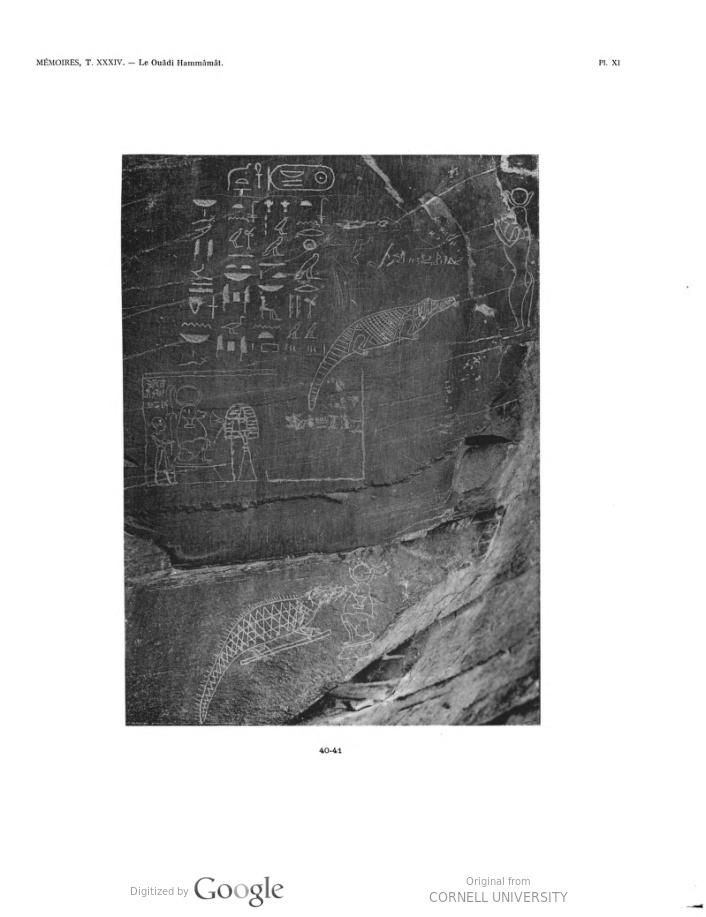circle: (263, 161, 348, 194)
